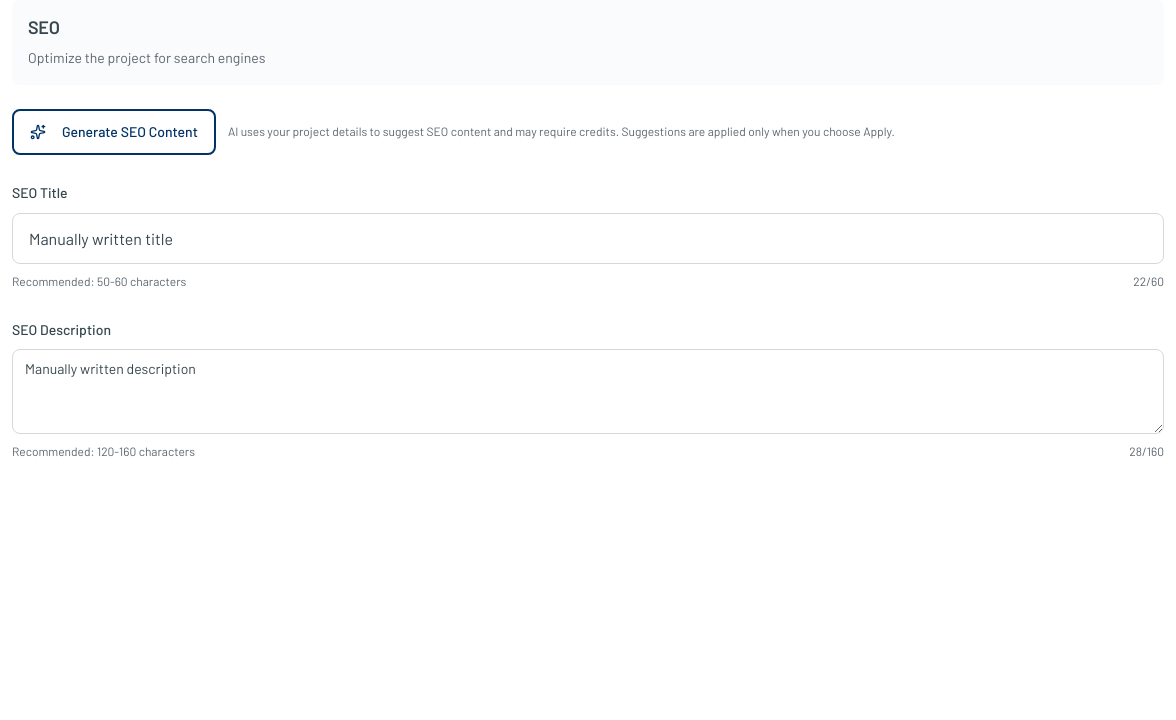
Test: reviewing AI SEO suggestions › preserves manual metadata after a malformed successful response 0
Click the button "Generate SEO Content": (114, 132) 12,109 -> 216,155
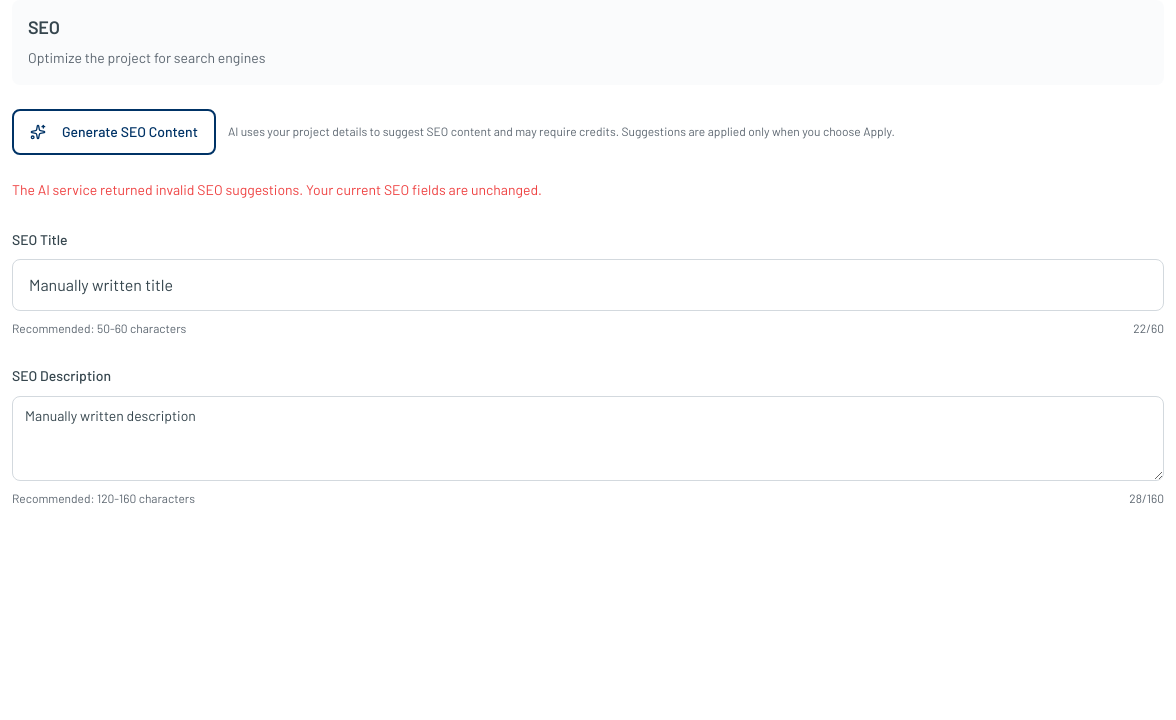
Expected: the field labelled "SEO Title" holds "Manually written title", 12,259 -> 1164,311
Now the message shows "invalid SEO suggestions", box 12,181 -> 542,198
